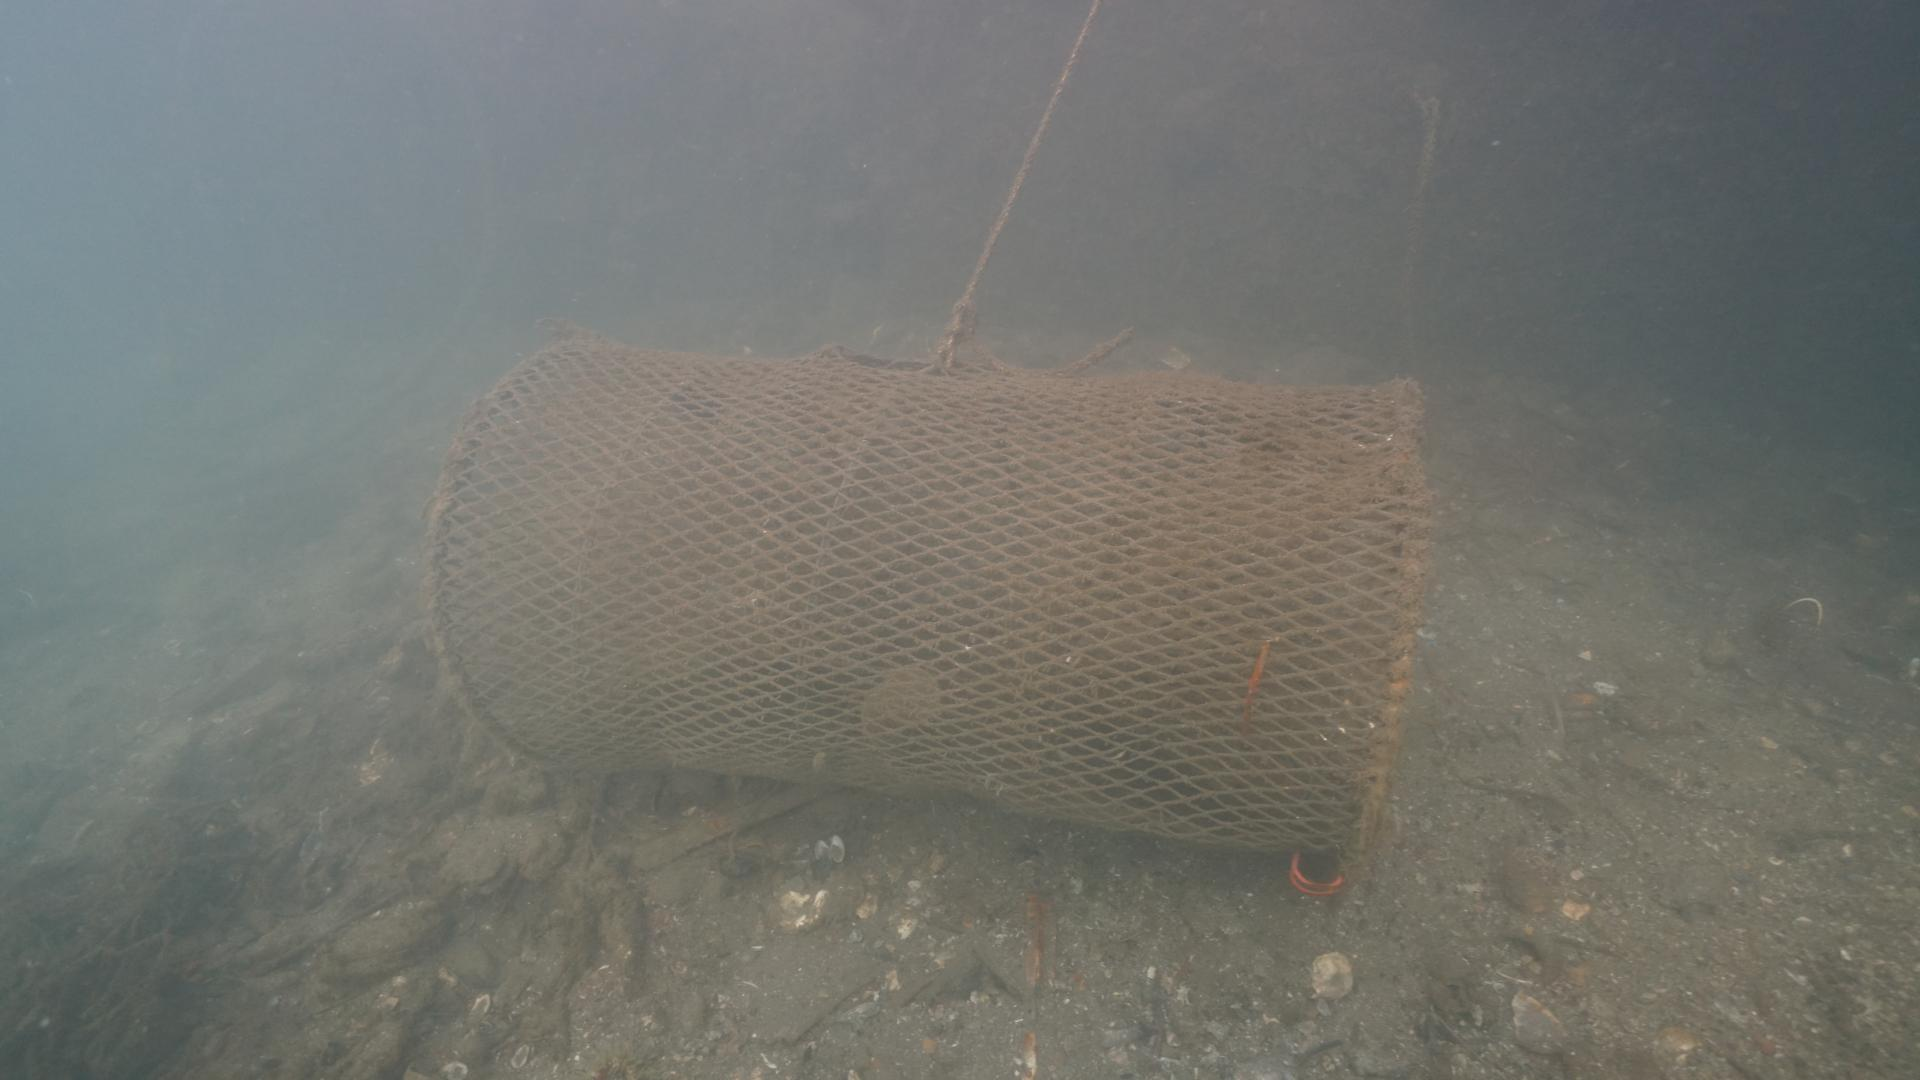rope: (927, 0, 1104, 359)
spring fish trap: (421, 328, 1435, 887)
